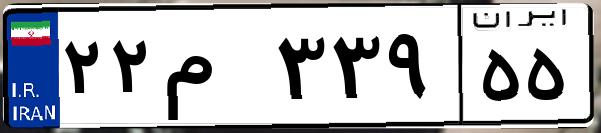2: (57, 26, 110, 100), (110, 28, 158, 98)
3: (270, 28, 330, 110), (330, 28, 385, 110)
5: (475, 38, 525, 113), (525, 38, 570, 115)
9: (385, 28, 445, 110)
م: (158, 20, 270, 120)
